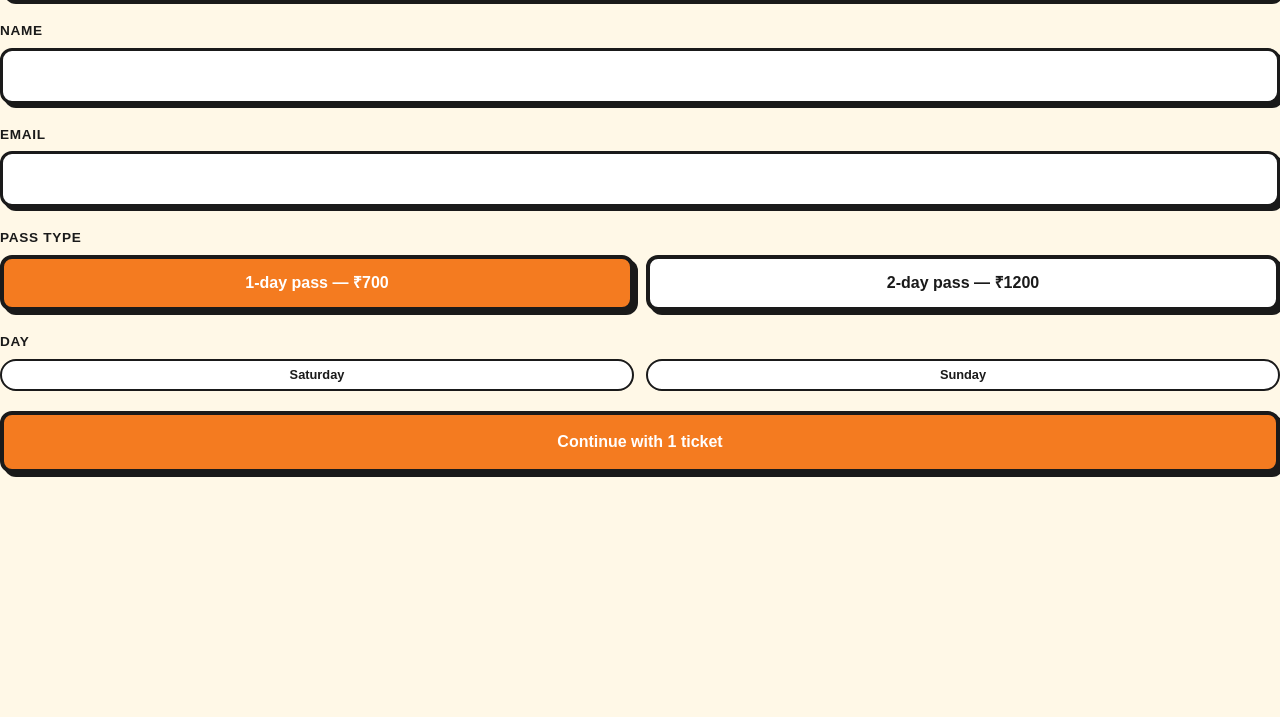
Test: RegisterForm › applies a promo code and shows the admin-authored message
Click the radio button labelled "Saturday".
click(317, 375)  # box [0, 358, 634, 391]
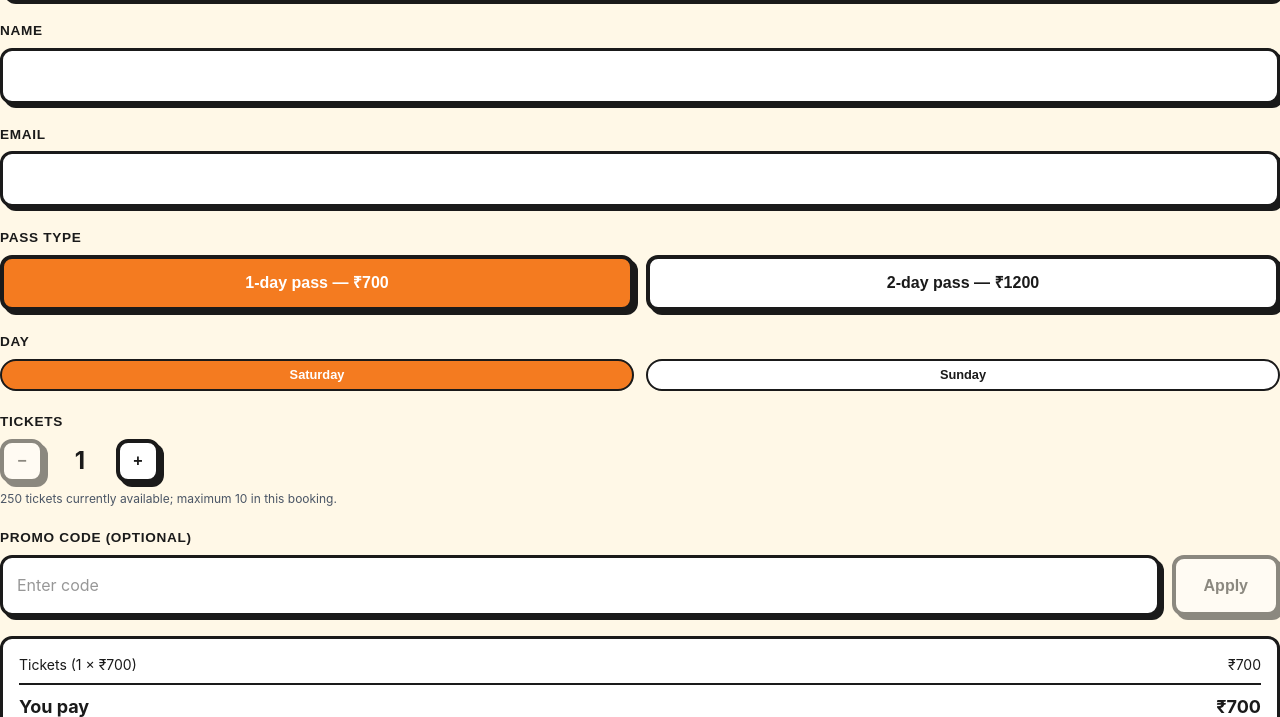
Type "save20" into the field labelled "Promo code (optional)".
click(580, 585); type("save20")  # box [0, 554, 1160, 616]
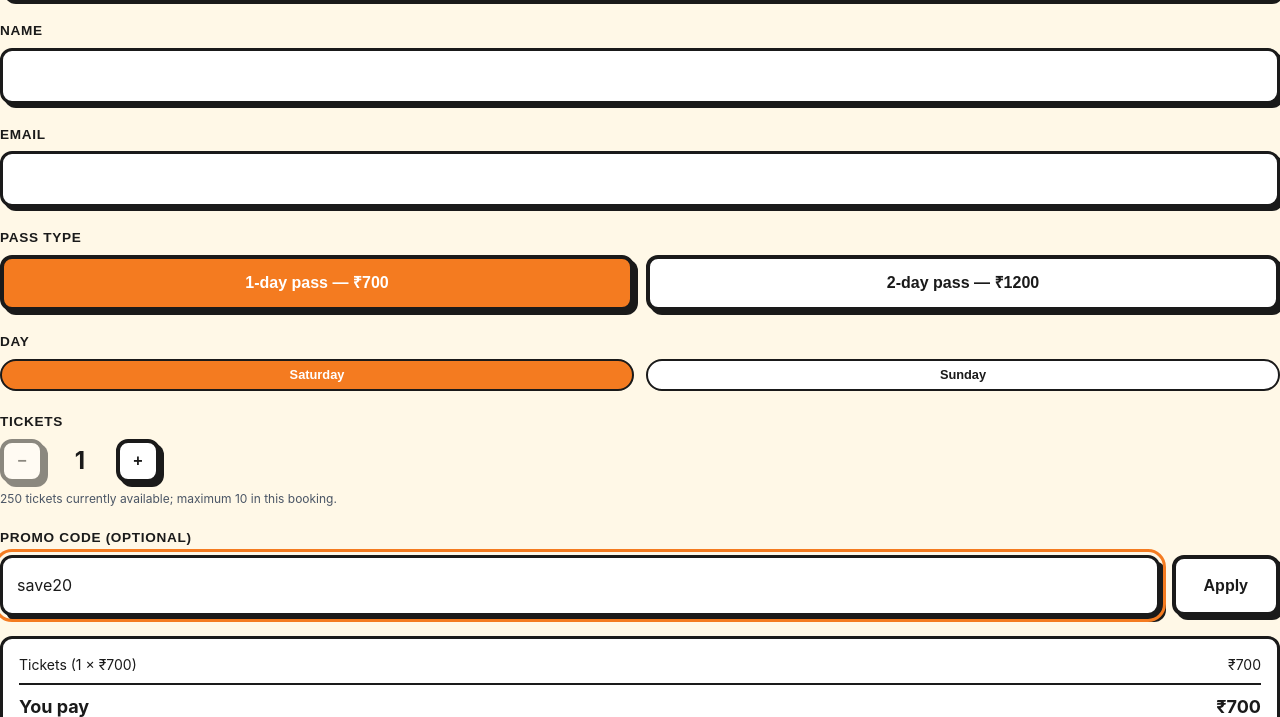
Click the button "Apply".
click(1226, 585)  # box [1172, 554, 1279, 616]
(page scrolled)
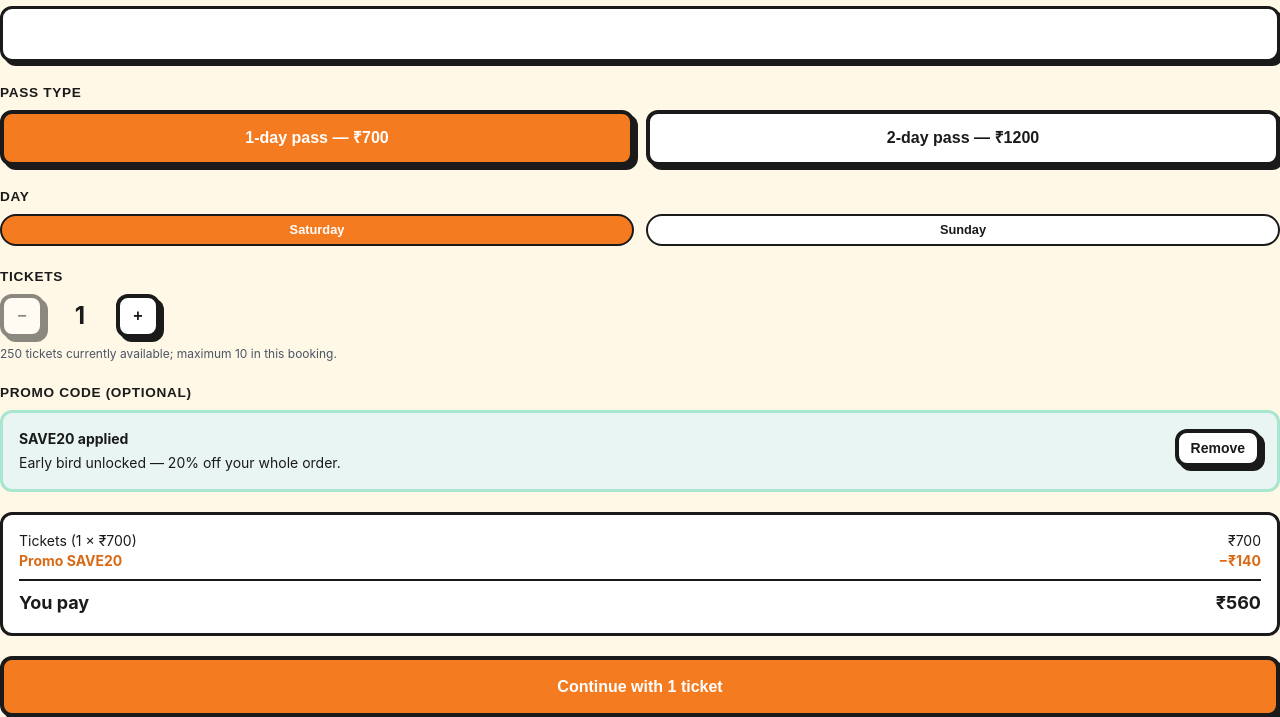
Expected: the text "SAVE20 applied" is shown, [19, 430, 128, 446]
Expected: the text "Early bird unlocked — 20% off your whole order." is shown, [19, 452, 341, 472]
Expected: the text "Promo SAVE20" is shown, [19, 550, 122, 570]
